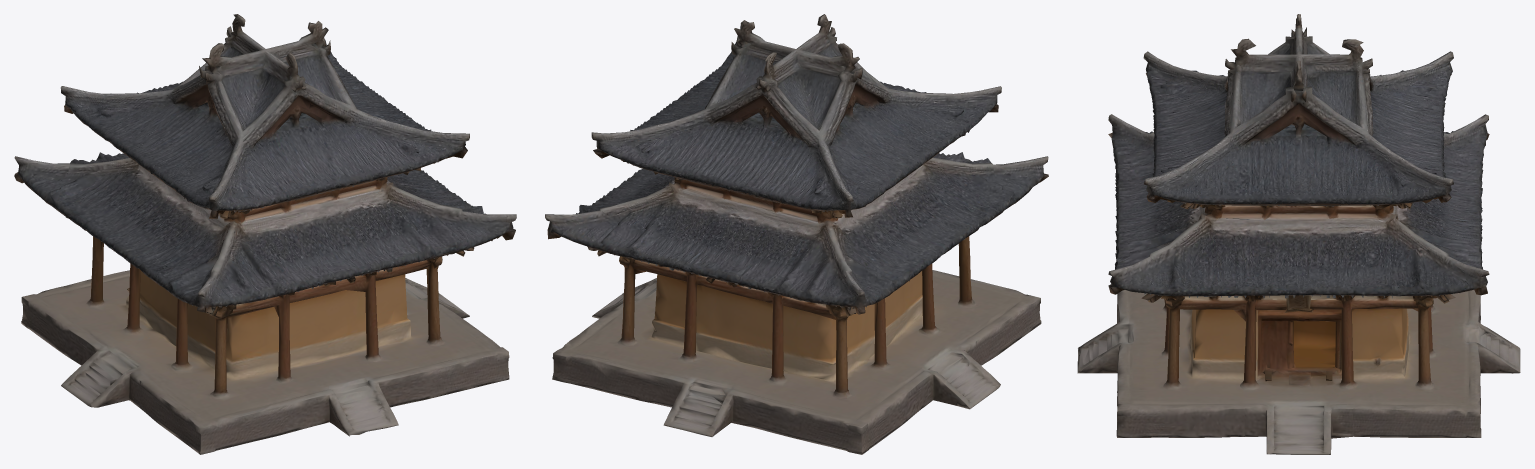
File: building-nanchansi.glb
3 renders of one model, left to right at view 1: azimuth 30°, elevation 25°; view 2: azimuth 150°, elevation 25°; view 3: azimuth 270°, elevation 25°, orthographic.
Visible parts, largest first — view 1: node_3423dcc6-213f-43cc-86ae-0aa9ccf23eb0; view 2: node_3423dcc6-213f-43cc-86ae-0aa9ccf23eb0; view 3: node_3423dcc6-213f-43cc-86ae-0aa9ccf23eb0.
Boxes of the visible parts, left/top/right/bottom form: node_3423dcc6-213f-43cc-86ae-0aa9ccf23eb0: left=14, top=14, right=516, bottom=454; node_3423dcc6-213f-43cc-86ae-0aa9ccf23eb0: left=545, top=14, right=1048, bottom=454; node_3423dcc6-213f-43cc-86ae-0aa9ccf23eb0: left=1077, top=14, right=1520, bottom=454.
Size of the model in its own units: 1 by 0.8076 by 0.9991.
Materials: 1 (1 with a texture image).
